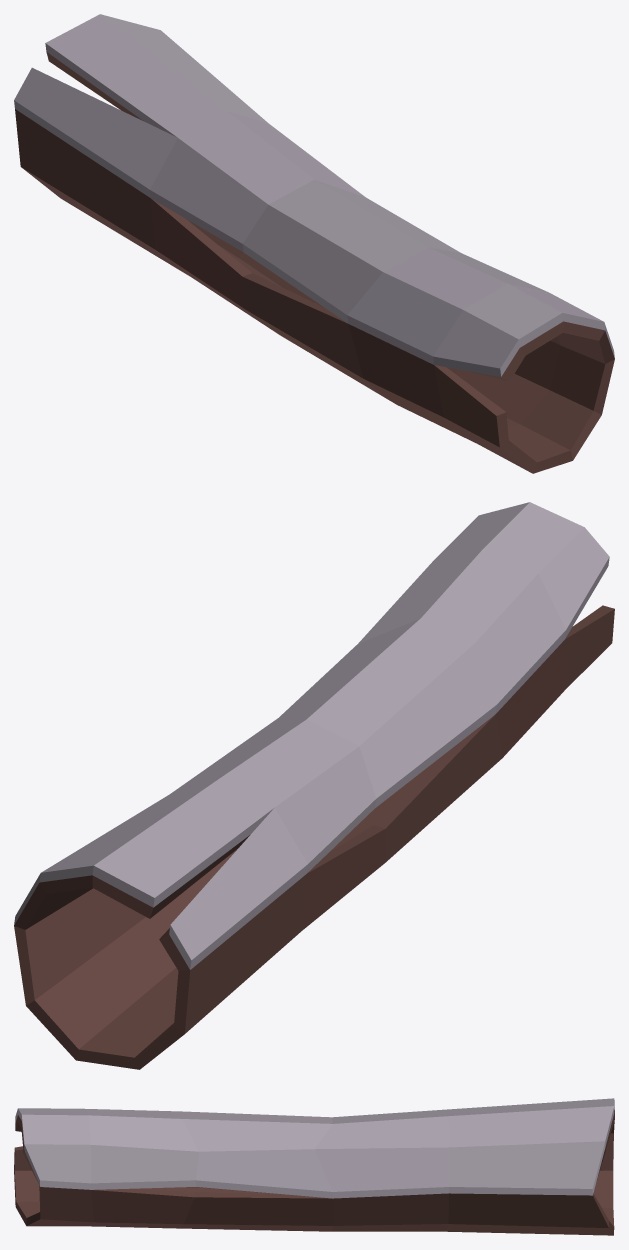
File: WoodLog_Snow.gltf
3 views of the same model, one above another, from view 1: azimuth 30°, elevation 25°; view 2: azimuth 150°, elevation 25°; view 3: azimuth 270°, elevation 25° (orthographic). The views are drawn at different scales.
Parts seen in each view (by area): view 1: WoodLog_Snow; view 2: WoodLog_Snow; view 3: WoodLog_Snow.
Part boxes in pixels (left/top/right/bottom): WoodLog_Snow: left=14, top=14, right=614, bottom=473; WoodLog_Snow: left=14, top=502, right=614, bottom=1069; WoodLog_Snow: left=14, top=1098, right=614, bottom=1235.
Size of the model in its own units: 0.6267 by 0.5842 by 2.49.
